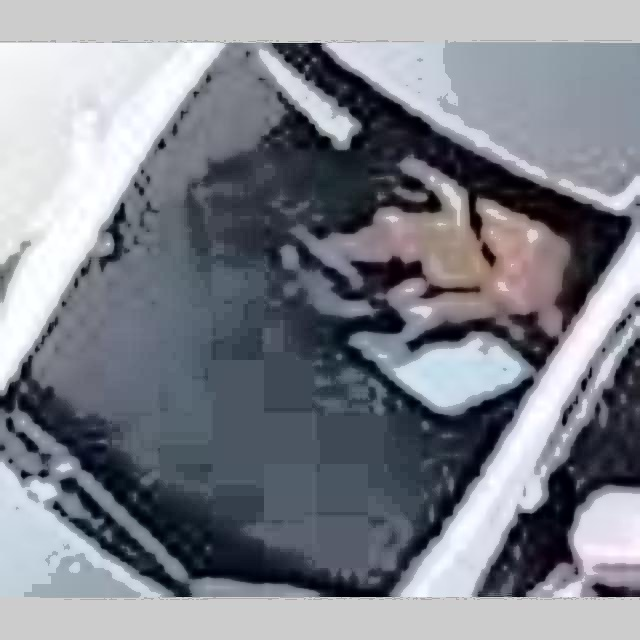pakai: (304, 135, 534, 366)
